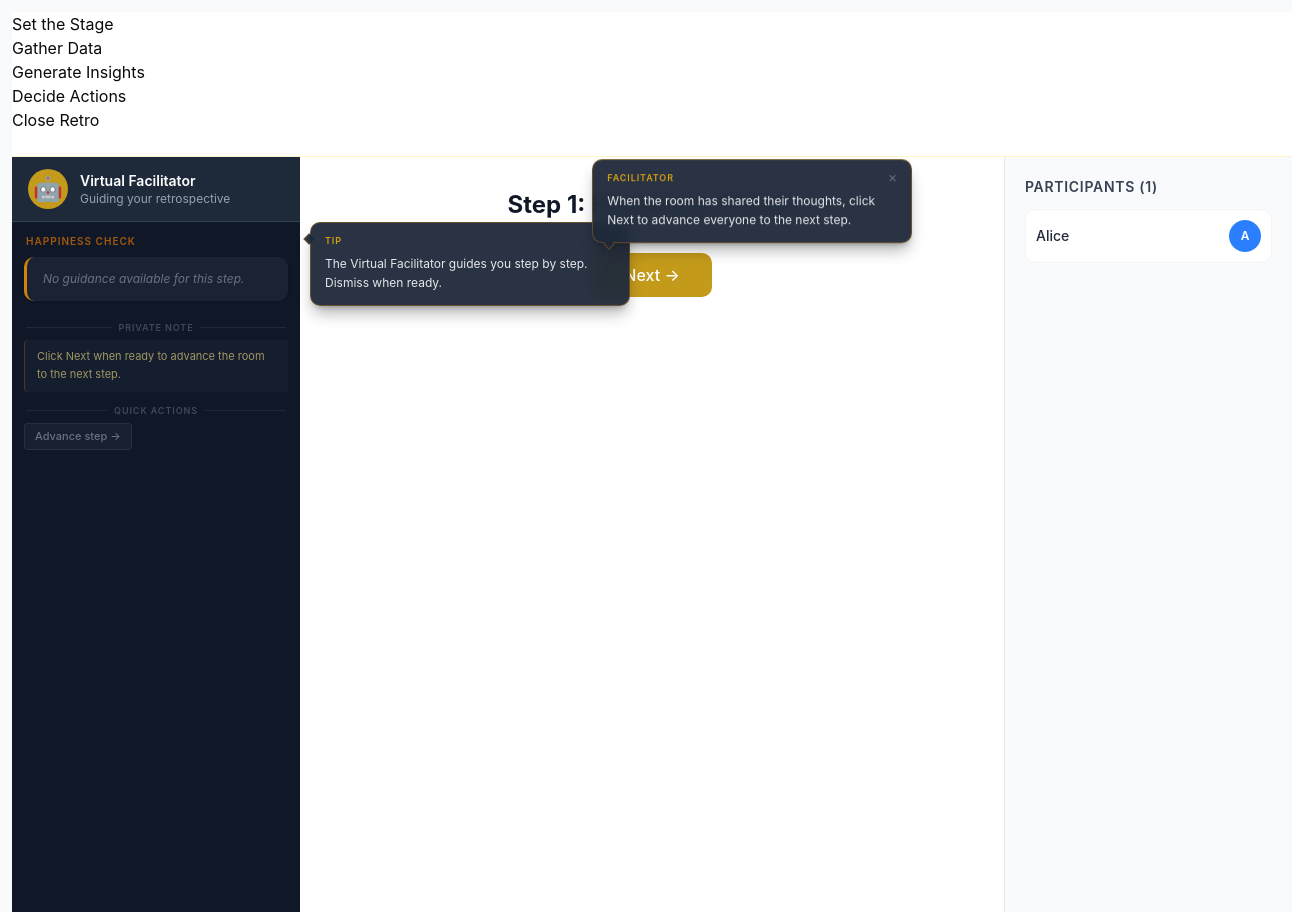
RetroPage next-step coachmark (facilitator anchor) › next-step-coachmark disappears after clicking close
expect the element with test id "next-step-coachmark" is shown: met, box [592,159,912,243]
Step 1. Click the button with test id "next-step-coachmark-close" → [893, 179], box [888,173,897,184]
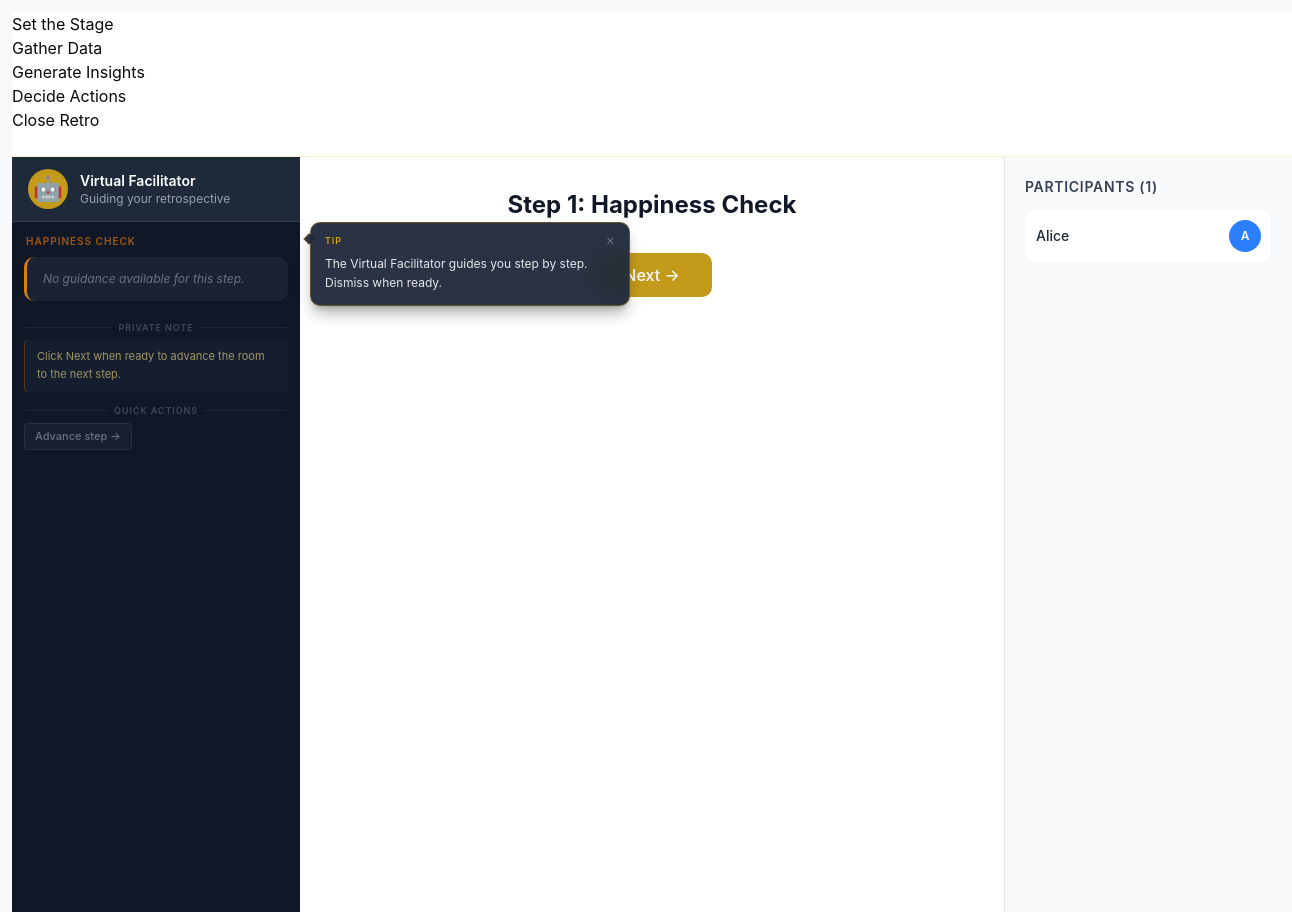
expect the element with test id "next-step-coachmark" is gone: met
